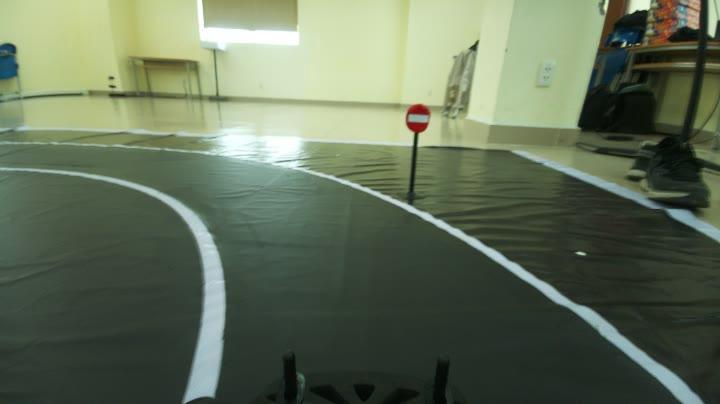no_entry: (398, 99, 438, 142)
